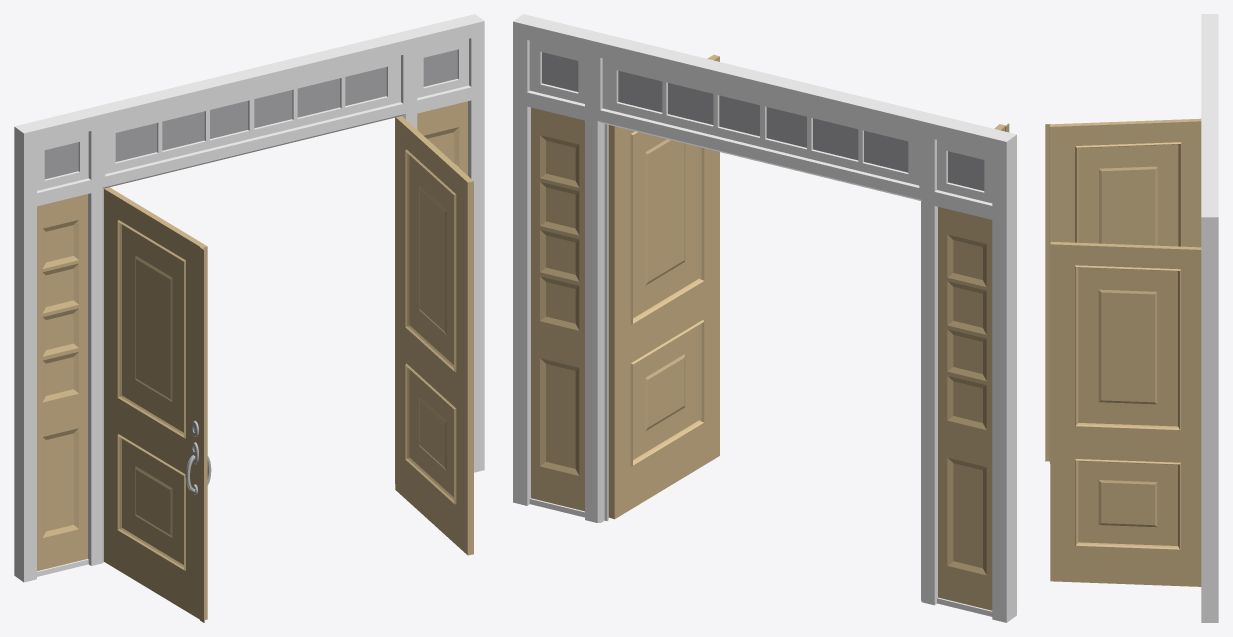
The model's file is 1066_double_door_open.glb.
3 views of the same model, side by side, from view 1: azimuth 30°, elevation 25°; view 2: azimuth 150°, elevation 25°; view 3: azimuth 270°, elevation 25° (orthographic). The views are drawn at different scales.
Parts seen in each view (by area): view 1: waku, 1, 2; view 2: waku, 2; view 3: 2, 1, waku.
Part boxes in pixels (box(x1,y1,x2,y2)): waku: box(14, 14, 484, 582); 1: box(104, 187, 211, 622); 2: box(395, 116, 473, 555); waku: box(513, 14, 1016, 622); 2: box(608, 54, 719, 519); 2: box(1050, 241, 1201, 586); 1: box(1045, 118, 1201, 463); waku: box(1201, 14, 1218, 622).
Bounding box in the file's own units: 2.76 × 2.57 × 0.9985.
